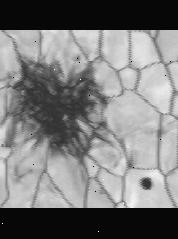good_void: (0, 58, 116, 174), (8, 162, 39, 192), (118, 152, 139, 178), (135, 175, 153, 194), (149, 124, 167, 142), (167, 112, 178, 133), (72, 54, 81, 65)
